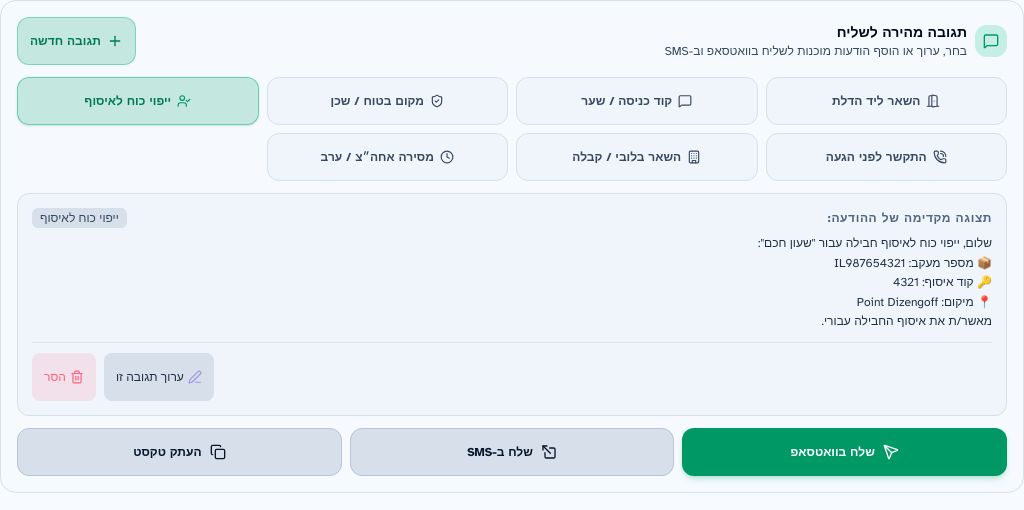
Test case: CourierActionHub › shows inline gate code input when gate code template is selected
Click the tab "קוד כניסה / שער" at (637, 101), box top-left (516, 77), bottom-right (758, 125)
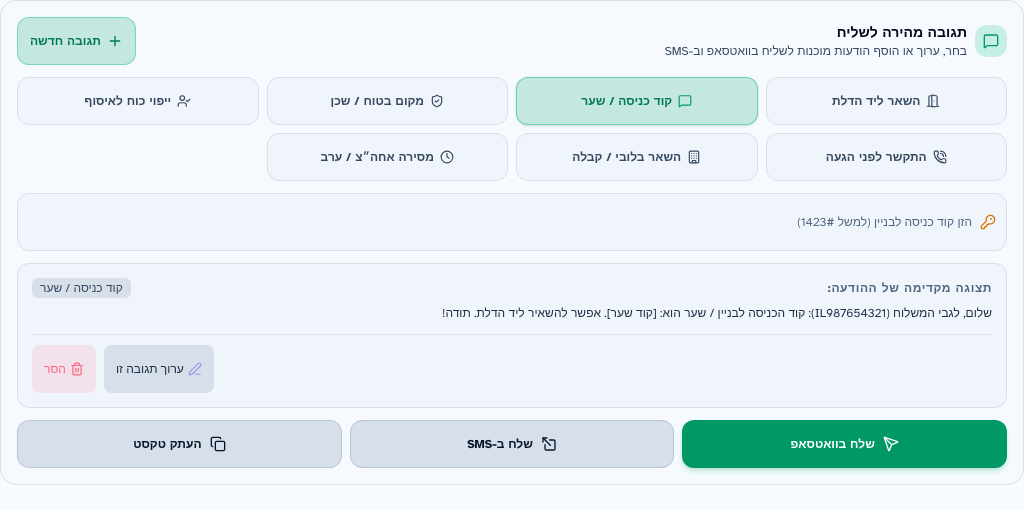
Expected: the field with placeholder "הזן קוד כניסה לבניין (למשל 1423#)" is shown
Type "9988#" into the field with placeholder "הזן קוד כניסה לבניין (למשל 1423#)" at (500, 222), box top-left (28, 204), bottom-right (972, 240)
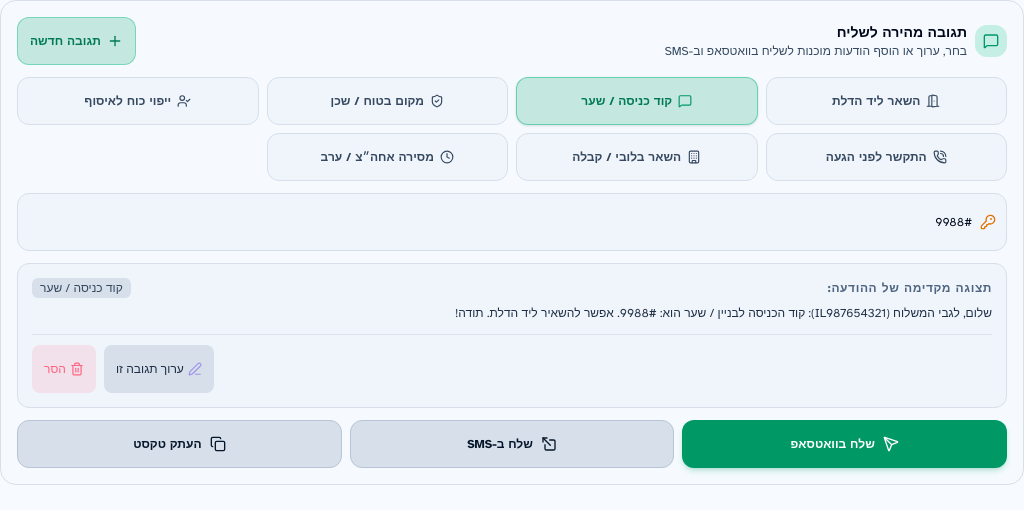
Expected: the text "קוד הכניסה לבניין / שער הוא: 9988#" is shown, top-left (455, 306), bottom-right (992, 320)
